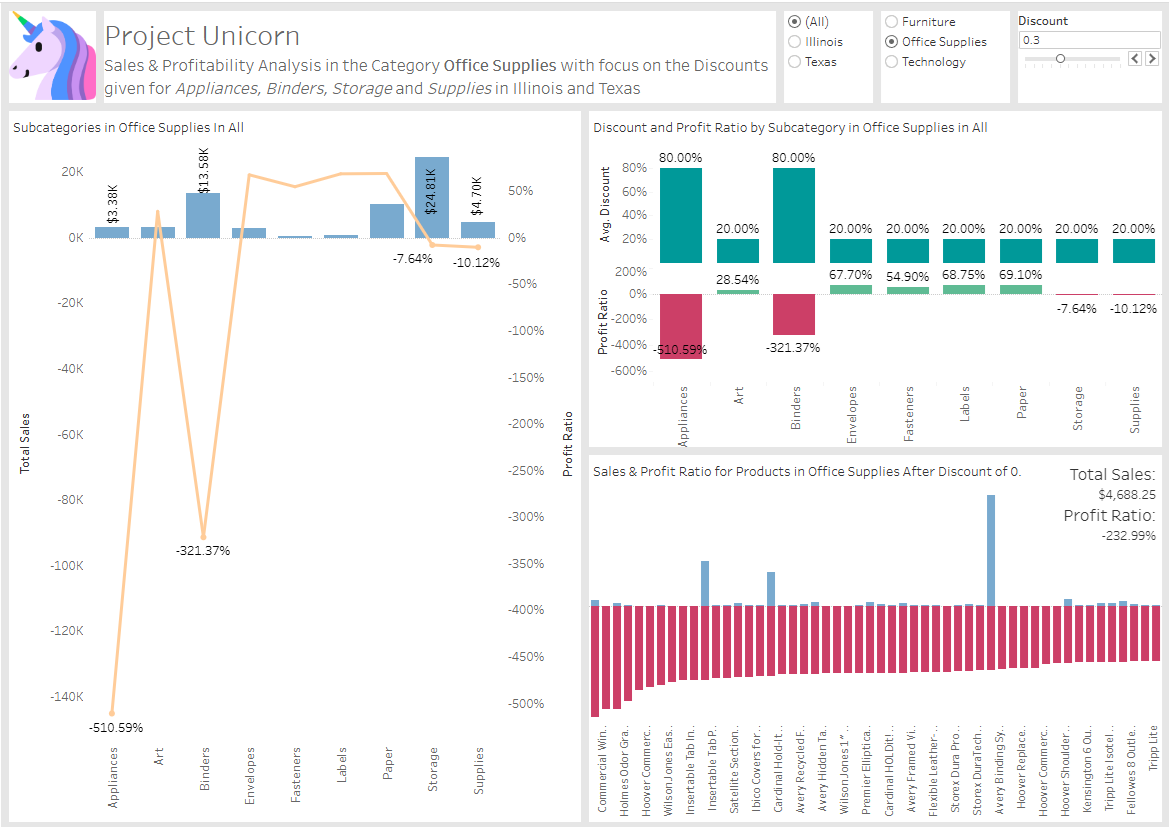

What the dashboard file says about the page in this screenshot:
{"tool":"tableau","page":{"name":"Part 2","canvas":[1169,827],"ordinal":1},"visuals":[{"type":"image","param":"Image/unicorn-emoji-2013x2048-zwviikqg.png","box":[4,4,95.4,100]},{"type":"text","box":[99.4,4,679.6,100]},{"type":"filter","title":"Discount Profit Subcategory","param":"[federated.170hxqj1hxj30w11hw7uu053jn2q].[Set 1]","box":[779,4,97,100]},{"type":"filter","title":"Sales & Profit Ratio (Category,Subcategory, State) ","param":"[federated.170hxqj1hxj30w11hw7uu053jn2q].[none:Category:nk]","box":[876,4,137,100]},{"type":"parameter","param":"[Parameters].[Parameter 1]","box":[1013,4,152,100]},{"type":"worksheet","title":"Sales & Profit Ratio (Category,Subcategory, State) ","mark":"Bar","rows":["Sales","Profit ratio per Subcategory (copy)_6879389212837433344"],"cols":["sub category"],"box":[4,104,580,719]},{"type":"worksheet","title":"Discount Profit Subcategory","mark":"Bar","rows":["Discount","Profit ratio per Subcategory (copy)_6879389212837433344"],"cols":["sub category"],"box":[584,104,581,344]},{"type":"worksheet","title":"Product by Category in Texas and Illinois","mark":"Bar","rows":["Calculation_280067646144524289","Original Profit ratio per Region(before discount) (copy)_597"],"cols":["Product Name"],"box":[584,448,581,375]},{"type":"worksheet","title":"KPI Product by Category in Texas and Illinois ","mark":"Automatic","box":[1020,452,139,96]}]}

Visuals, with their boxes in screenshot pixels (x1, y1, x2, y2), scaled from the page's 1169x827 canvas onto the 1169x827 screenshot:
image: l=4, t=4, r=99, b=104
text: l=99, t=4, r=779, b=104
"Discount Profit Subcategory" filter: l=779, t=4, r=876, b=104
"Sales & Profit Ratio (Category,Subcategory, State) " filter: l=876, t=4, r=1013, b=104
parameter: l=1013, t=4, r=1165, b=104
"Sales & Profit Ratio (Category,Subcategory, State) " worksheet (Bar marks): l=4, t=104, r=584, b=823
"Discount Profit Subcategory" worksheet (Bar marks): l=584, t=104, r=1165, b=448
"Product by Category in Texas and Illinois" worksheet (Bar marks): l=584, t=448, r=1165, b=823
"KPI Product by Category in Texas and Illinois " worksheet: l=1020, t=452, r=1159, b=548
